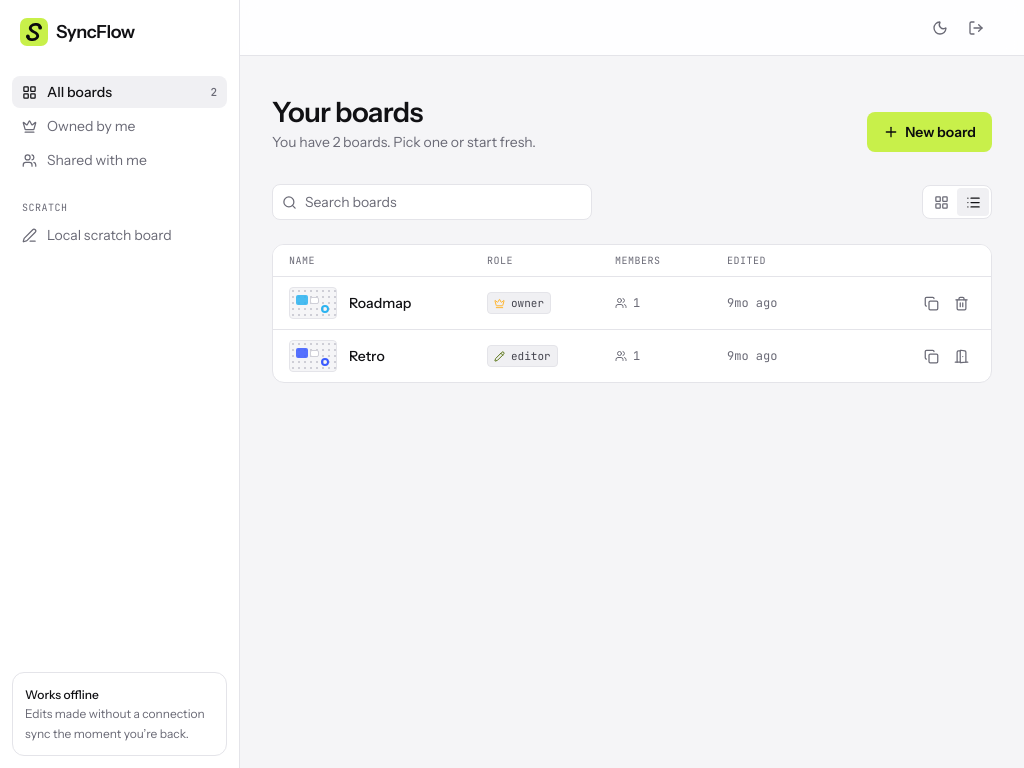
DashboardPage layout and narrowing › debounces the search so typing sends one request, not one per keystroke
Expected: the text "Roadmap" is shown, left=349, top=293, right=411, bottom=313
Type "ret" into the search field labelled "Search boards" at [432, 202], box left=272, top=184, right=592, bottom=220
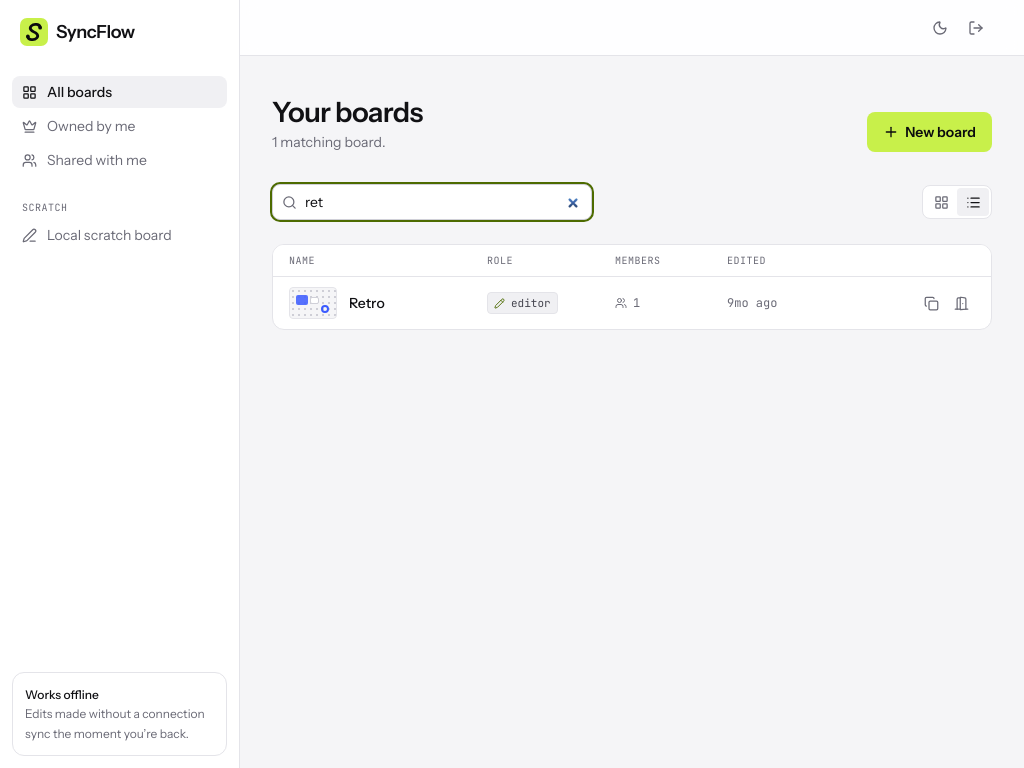
Now the text "Roadmap" is gone
